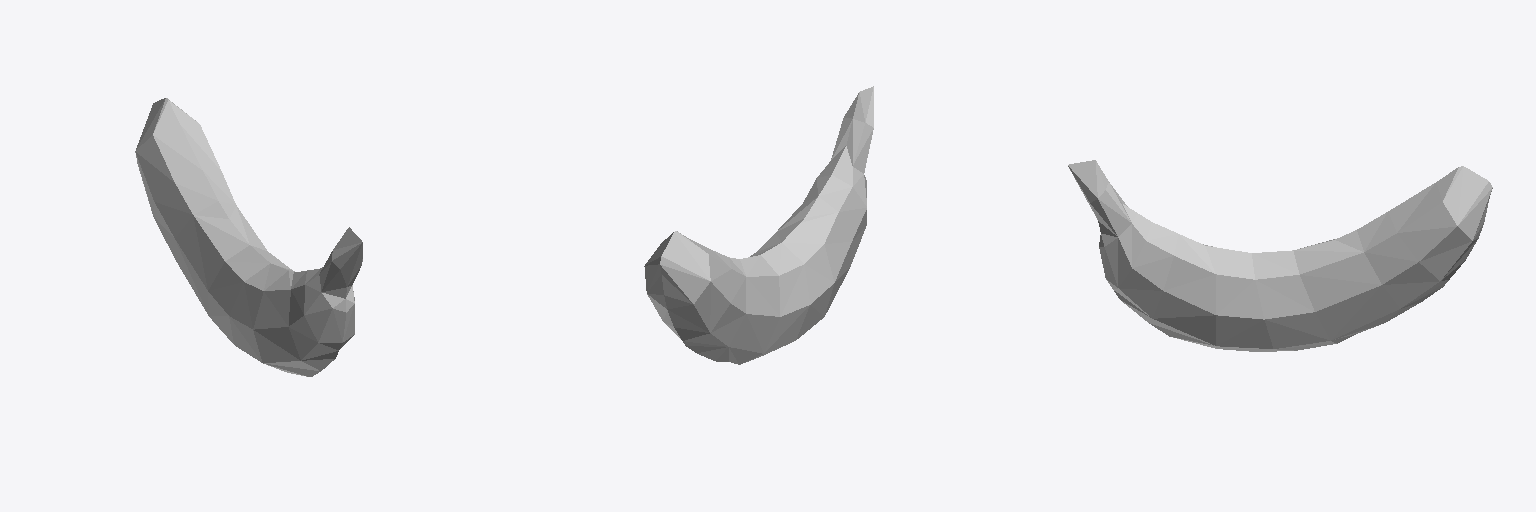
The model's file is banana1.obj.
The picture shows the model from 3 angles: view 1: azimuth 30°, elevation 25°; view 2: azimuth 150°, elevation 25°; view 3: azimuth 270°, elevation 25°; orthographic projection.
Parts seen in each view (by area): view 1: banana1; view 2: banana1; view 3: banana1.
Boxes of the visible parts, <box> form: banana1: <box>135,98,362,376</box>; banana1: <box>644,86,873,364</box>; banana1: <box>1068,160,1492,351</box>.
Size of the model in its own units: 0.0292 by 0.0775 by 0.1547.